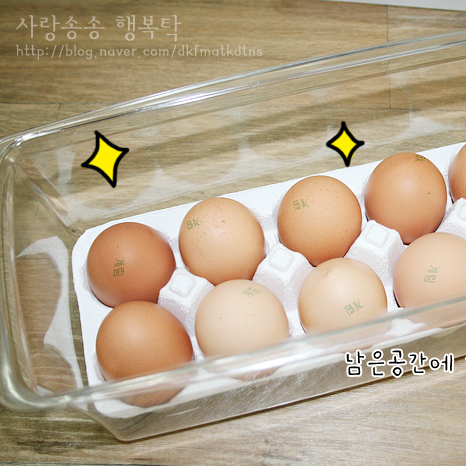egg: (80, 149, 466, 382)
